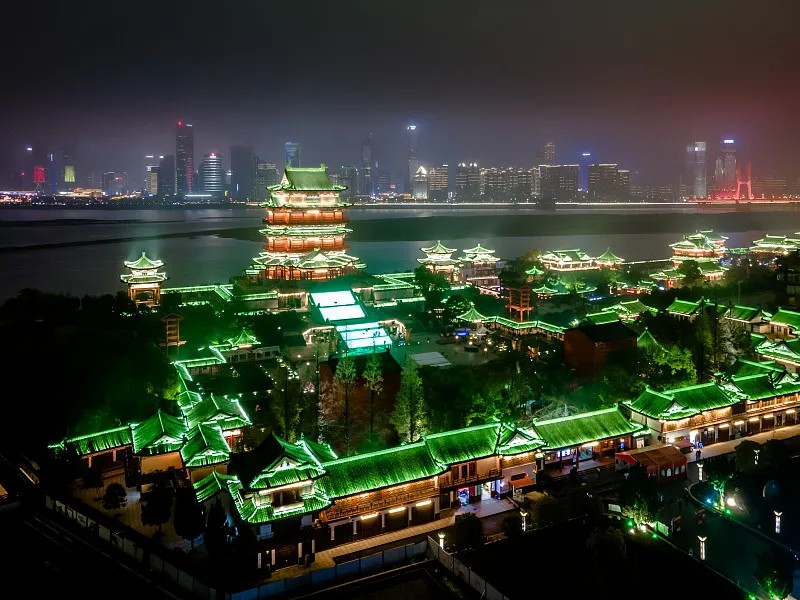Teng: (244, 163, 366, 282)
